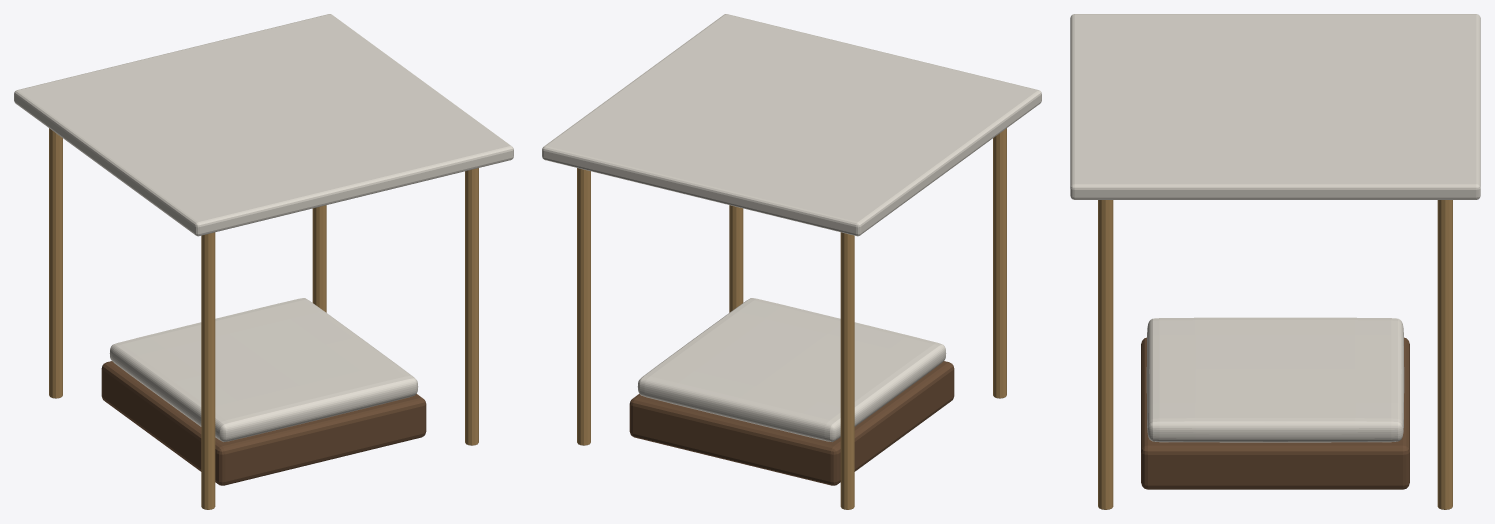
File: cabana.glb
3 views of the same model, side by side, from view 1: azimuth 30°, elevation 25°; view 2: azimuth 150°, elevation 25°; view 3: azimuth 270°, elevation 25° (orthographic). The views are drawn at different scales.
Visible parts, largest first — view 1: cab_roof, cab_mattress, cab_bed, cab_post_-1_-1, cab_post_1_-1, cab_post_-1_1, cab_post_1_1; view 2: cab_roof, cab_mattress, cab_bed, cab_post_-1_1, cab_post_1_1, cab_post_-1_-1, cab_post_1_-1; view 3: cab_roof, cab_mattress, cab_bed, cab_post_1_-1, cab_post_1_1.
Part boxes in pixels (x1,y1,x2,y2): cab_roof: (14, 14, 513, 236); cab_mattress: (109, 298, 418, 441); cab_bed: (101, 361, 426, 485); cab_post_-1_-1: (201, 232, 215, 509); cab_post_1_-1: (465, 168, 478, 445); cab_post_-1_1: (49, 128, 62, 398); cab_post_1_1: (312, 205, 326, 312); cab_roof: (542, 14, 1041, 236); cab_mattress: (637, 298, 946, 441); cab_bed: (629, 361, 954, 485); cab_post_-1_1: (840, 232, 854, 509); cab_post_1_1: (577, 168, 590, 445); cab_post_-1_-1: (993, 128, 1006, 398); cab_post_1_-1: (729, 205, 743, 312); cab_roof: (1070, 14, 1480, 199); cab_mattress: (1146, 317, 1404, 442); cab_bed: (1141, 337, 1409, 489); cab_post_1_-1: (1098, 200, 1113, 509); cab_post_1_1: (1437, 200, 1452, 509).
Size of the model in its own units: 2.9 by 2.62 by 2.9.
